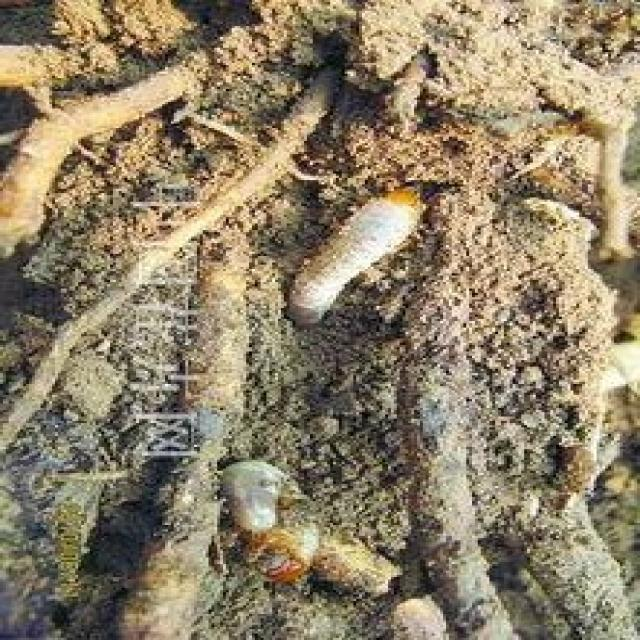grub: (288, 185, 427, 333), (230, 461, 328, 582)
